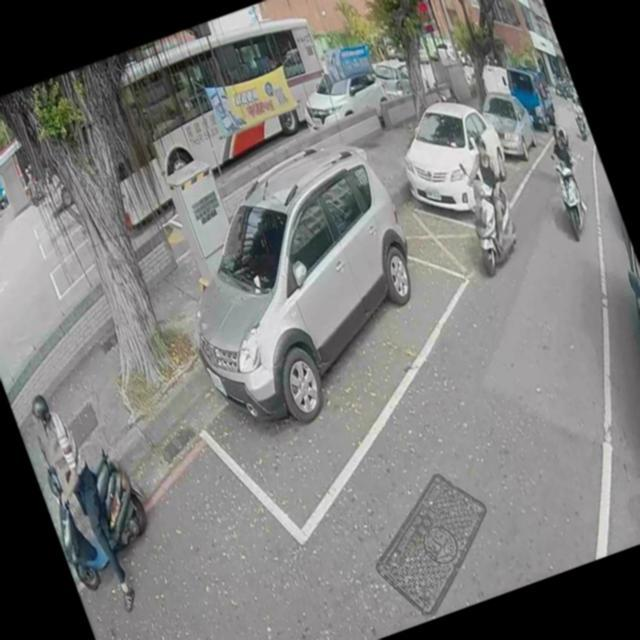person: (19, 390, 140, 610), (448, 126, 526, 256), (540, 120, 594, 218), (546, 122, 594, 212), (21, 165, 41, 198), (568, 90, 584, 117)
